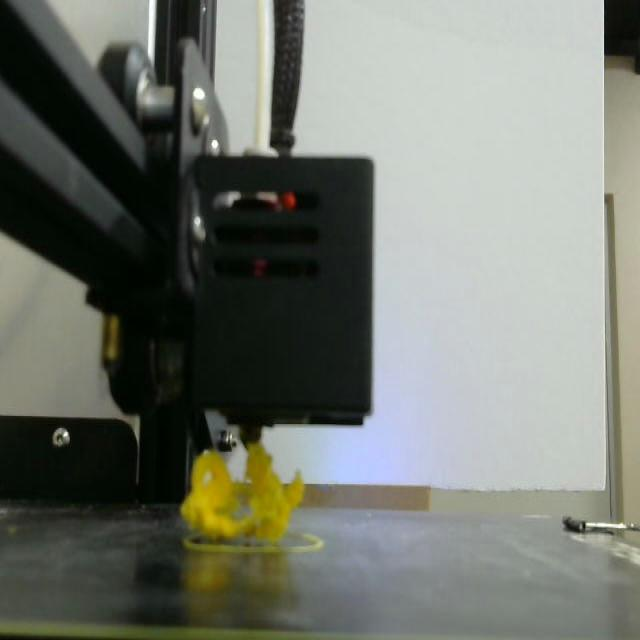spaghetti: (181, 443, 304, 542)
